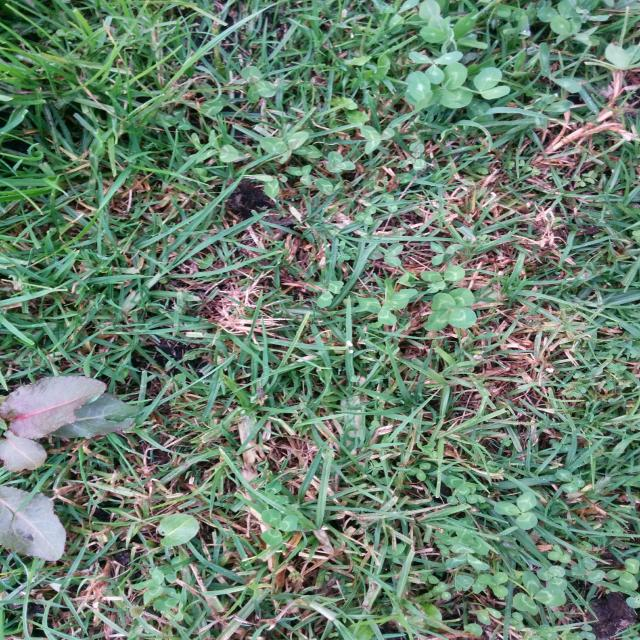Four Leaf Clover: (423, 288, 477, 331)
